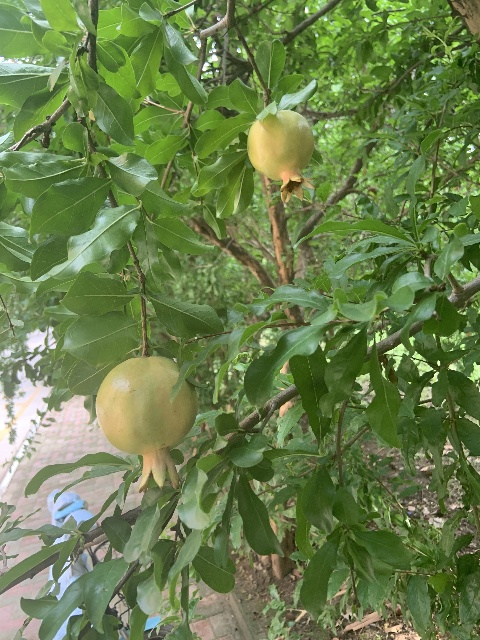mid-growth: (94, 356, 198, 493), (246, 109, 317, 203)
